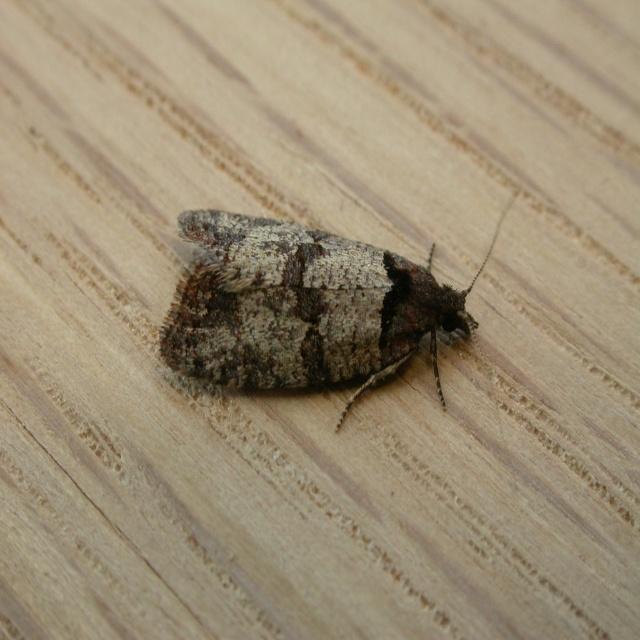Moths and butterflies: (155, 185, 522, 505)
